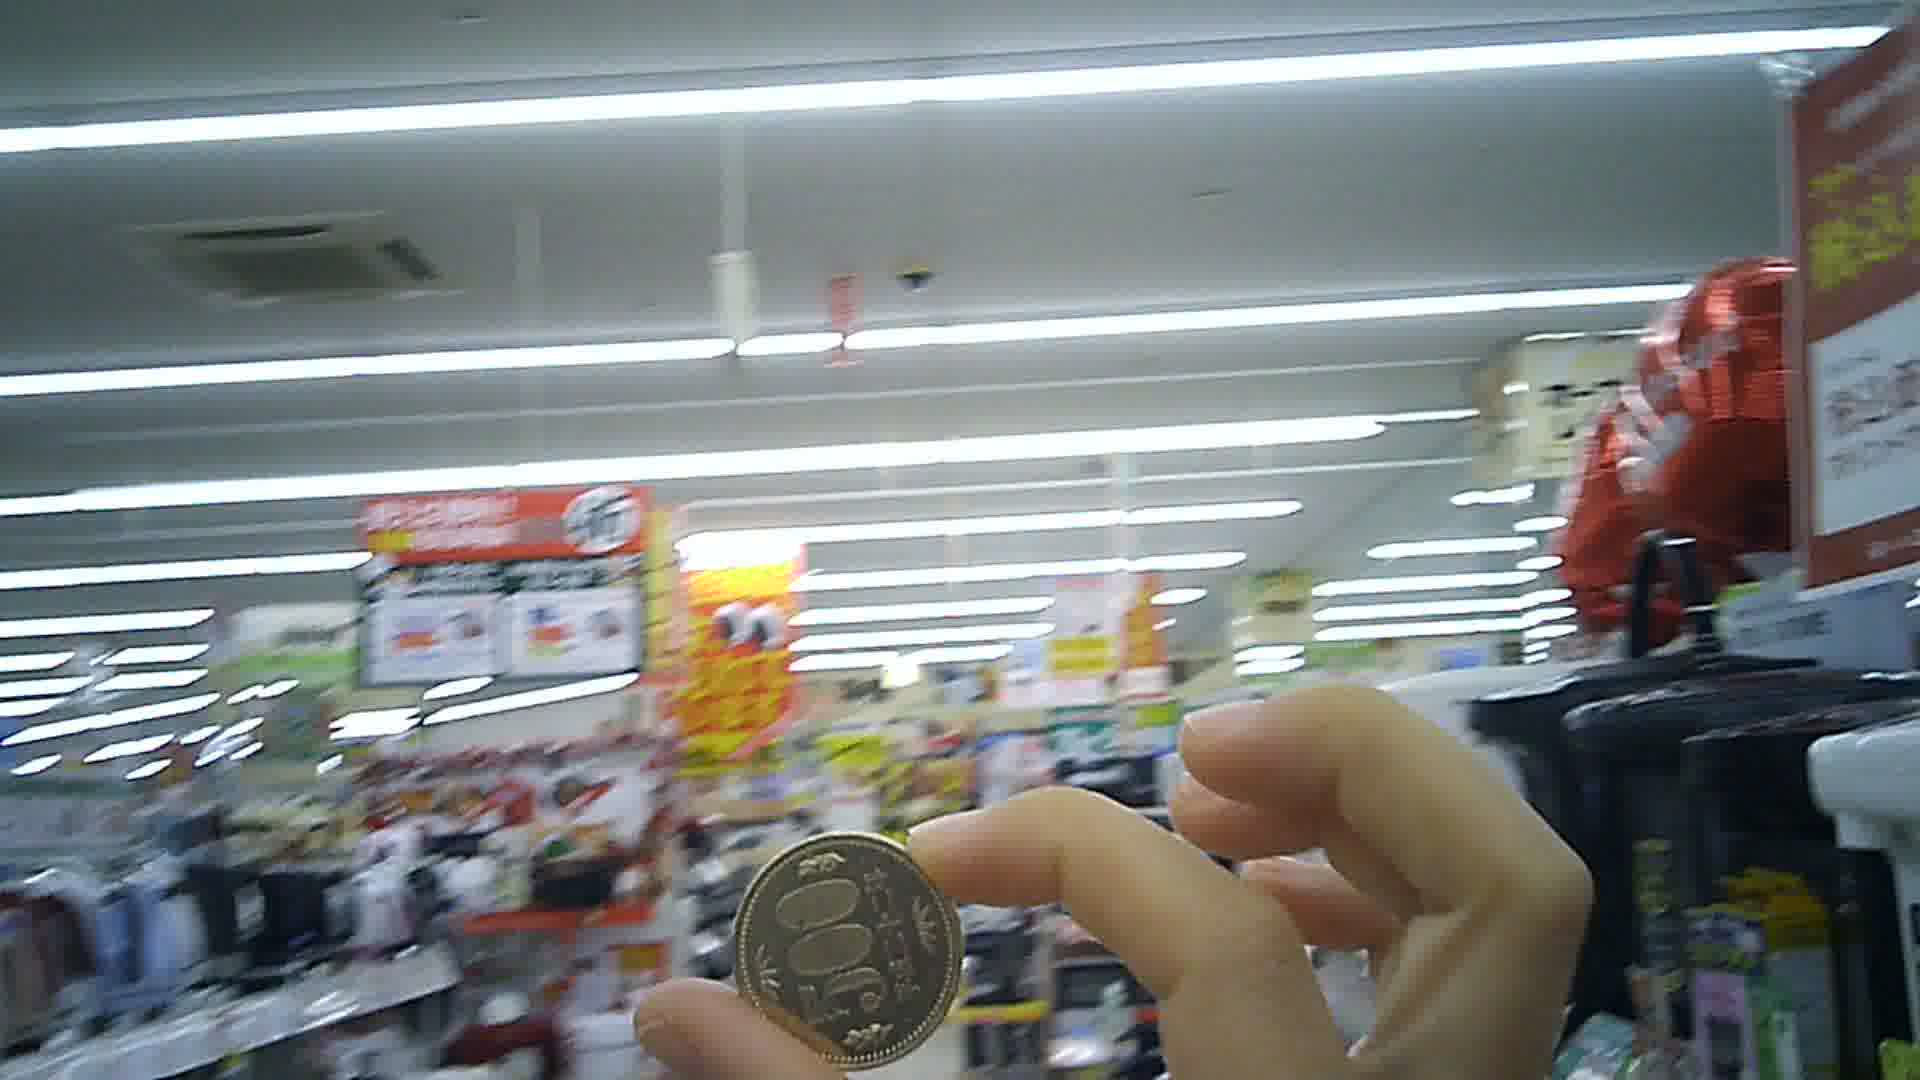500 Yen: (728, 825, 985, 1077)
